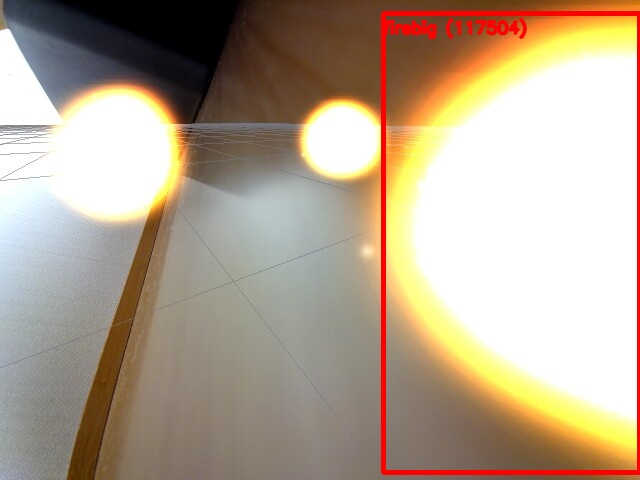firebig: (383, 13, 639, 472)
